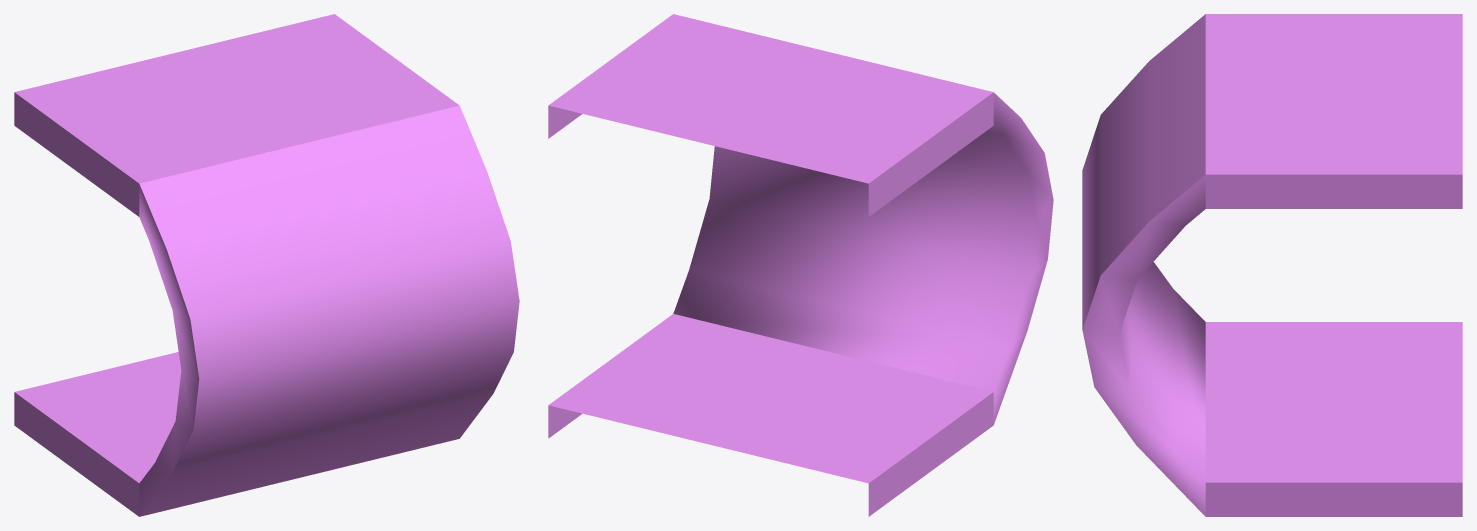
File: FinCinta.FBX
3 views of the same model, side by side, from view 1: azimuth 30°, elevation 25°; view 2: azimuth 150°, elevation 25°; view 3: azimuth 270°, elevation 25° (orthographic). The views are drawn at different scales.
Visible parts, largest first — view 1: Object001, Box002; view 2: Box002, Object001; view 3: Box002, Object001.
Boxes of the visible parts, x1,y1,x2,y2 form: Object001: (139,105,519,516); Box002: (14,14,459,516); Box002: (548,14,993,516); Object001: (673,92,1053,424); Box002: (1205,14,1462,516); Object001: (1082,14,1205,516).
Size of the model in its own units: 100 by 99.42 by 100.
